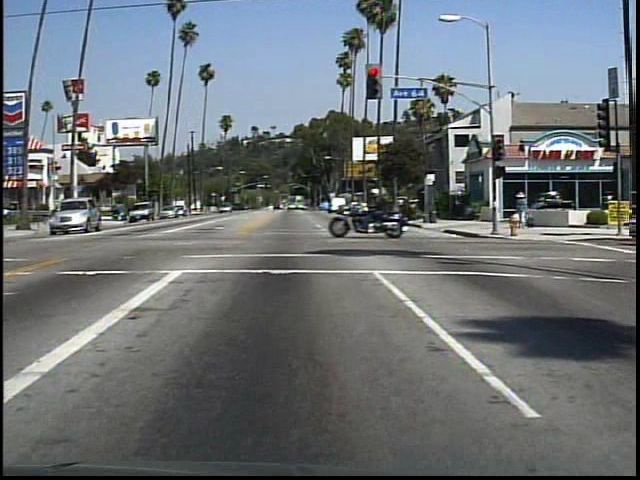person: (361, 188, 395, 236), (512, 186, 533, 216)
